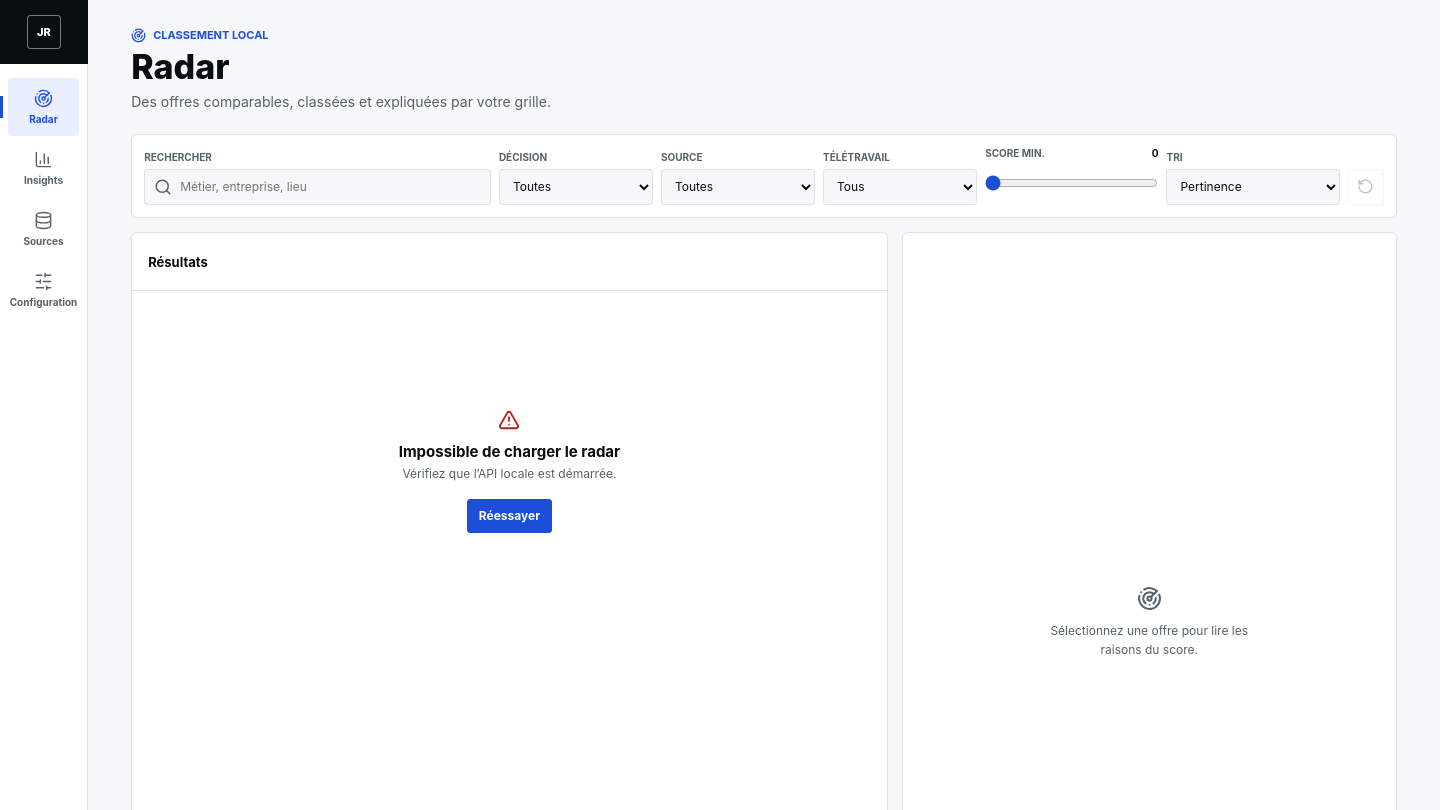
Test case: Radar public › rend l'erreur récupérable puis relance la requête
Expected: the message shows "Impossible de charger le radar", [399,442,620,461]
Click the button "Réessayer": (509,516) [467,499,552,533]
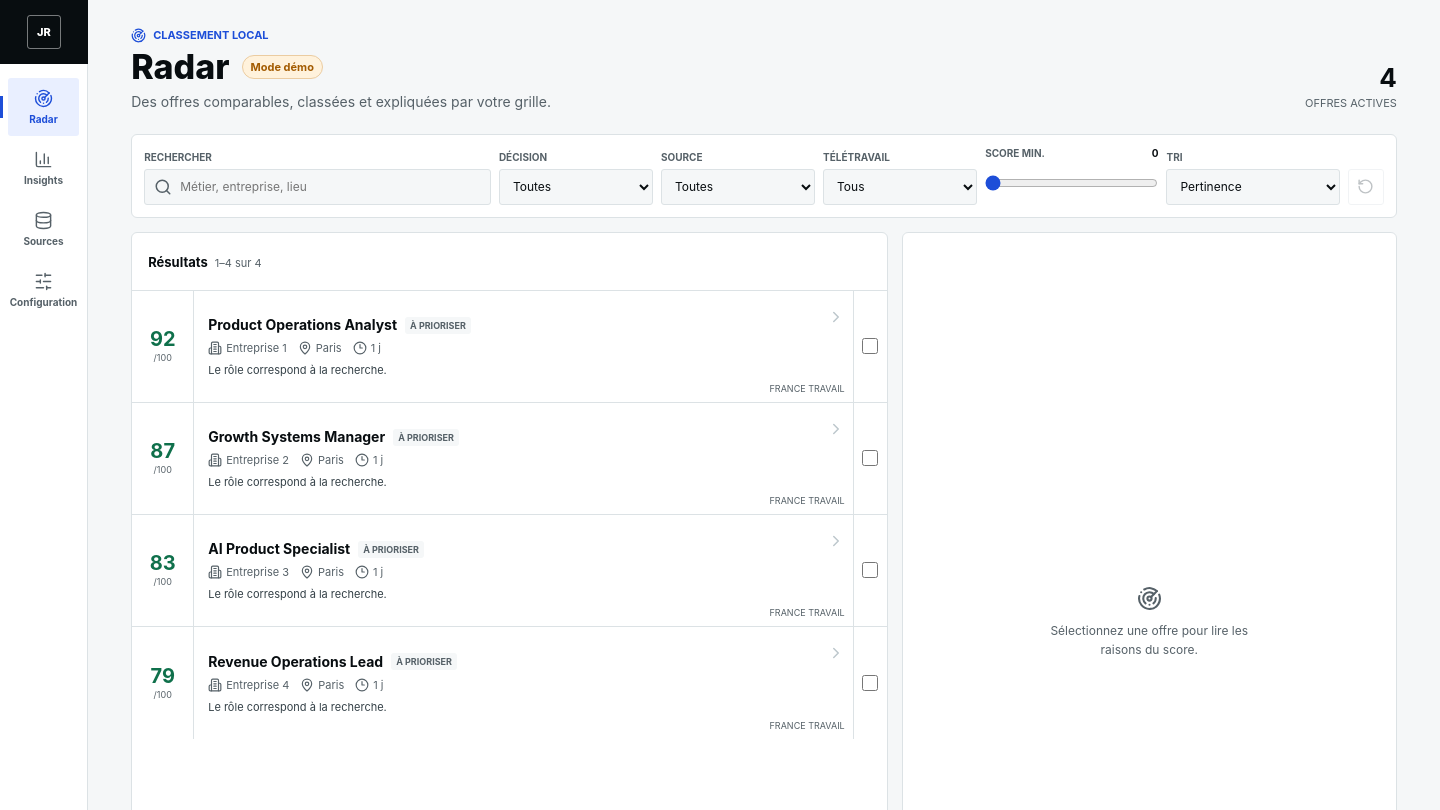
Now the text "Product Operations Analyst" is shown, box [208,316,397,334]
